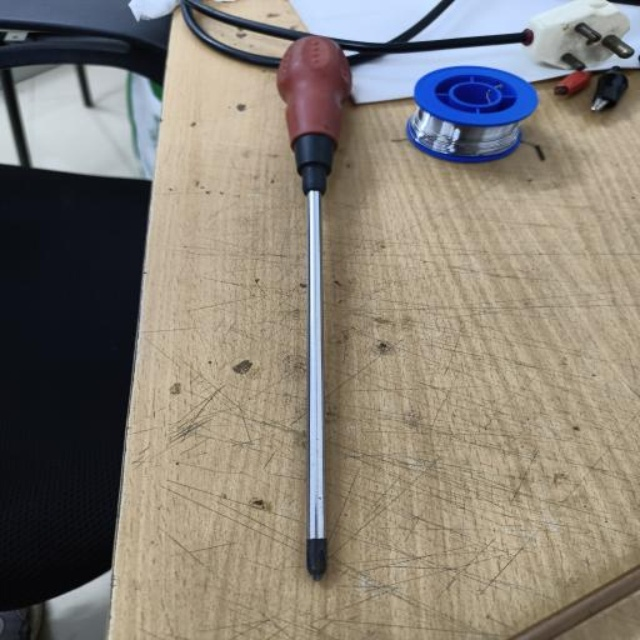screwdriver: (274, 29, 354, 583)
